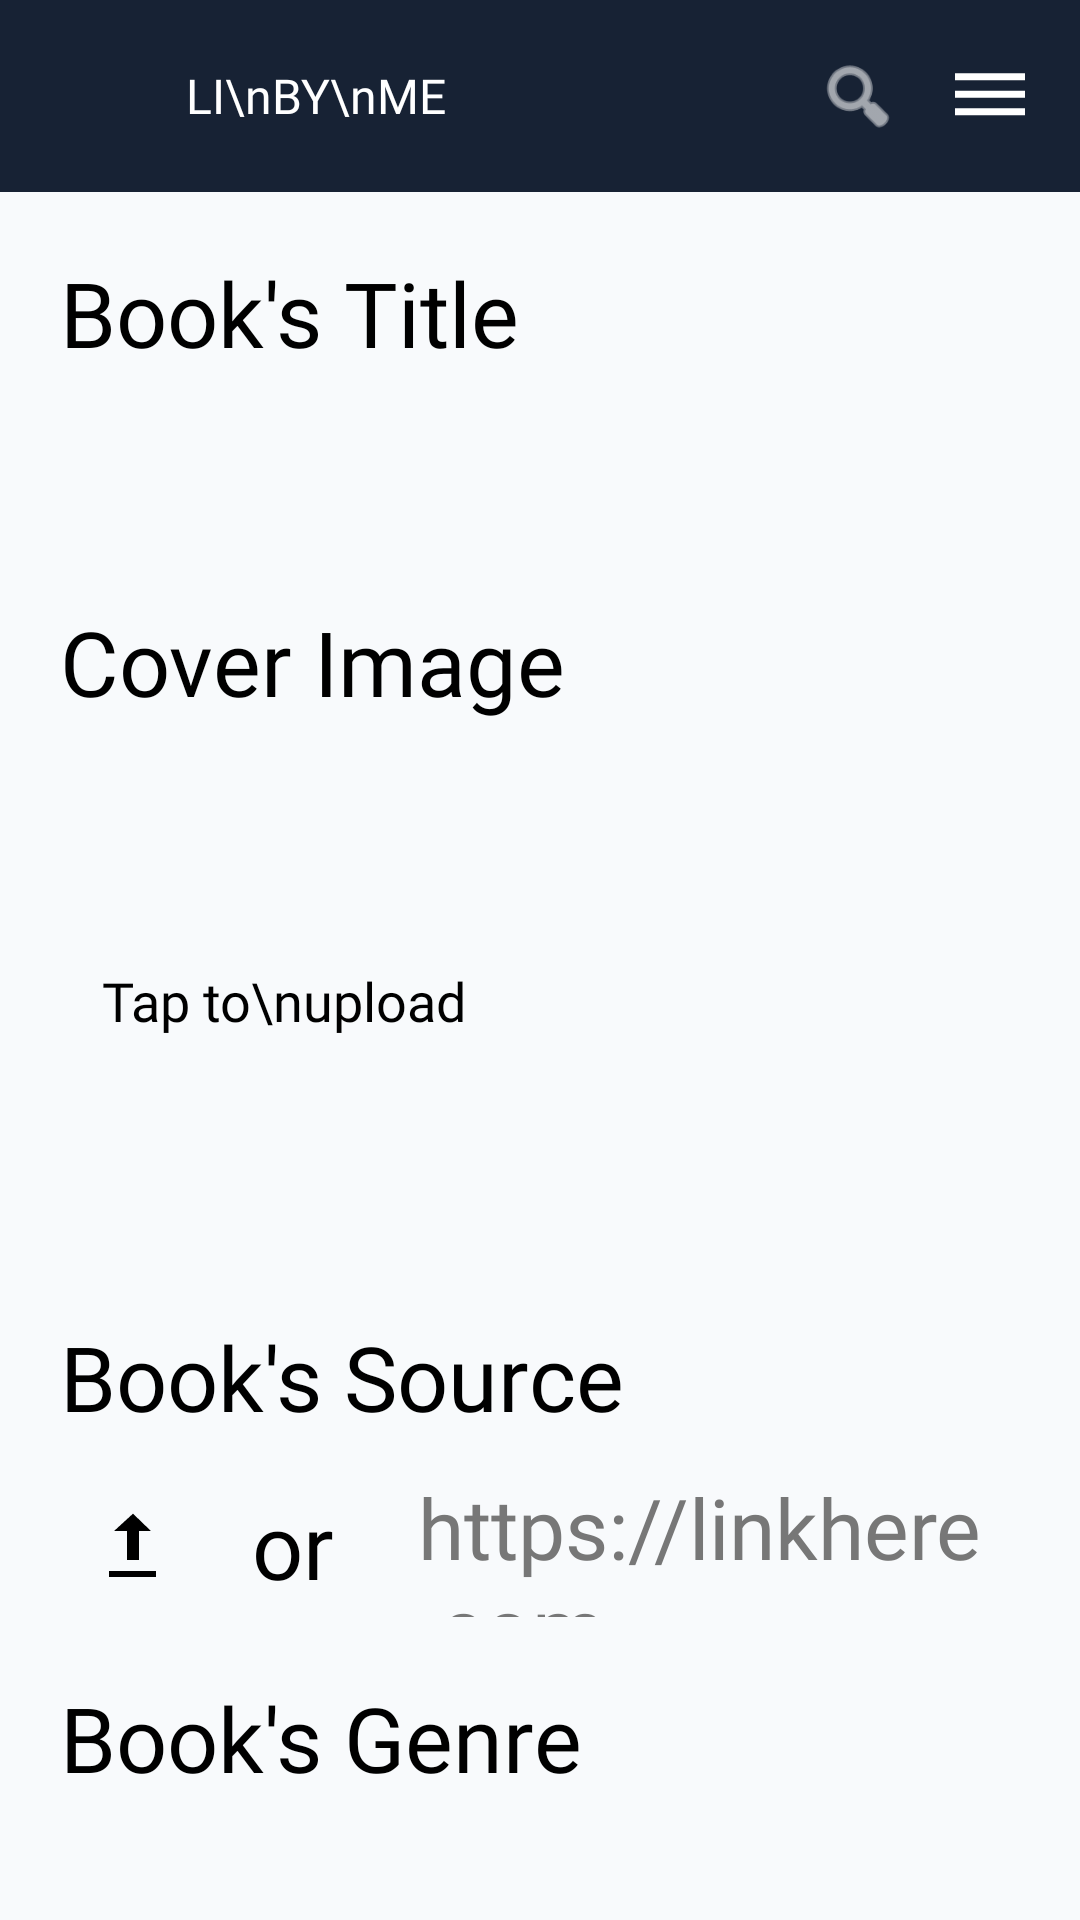

Icons on this 1080px x 1920px Android screen, each with the point to tap as (x=x, y=y):
dehaze: (x=990, y=94)
search: (x=858, y=96)
upload: (x=132, y=1545)
